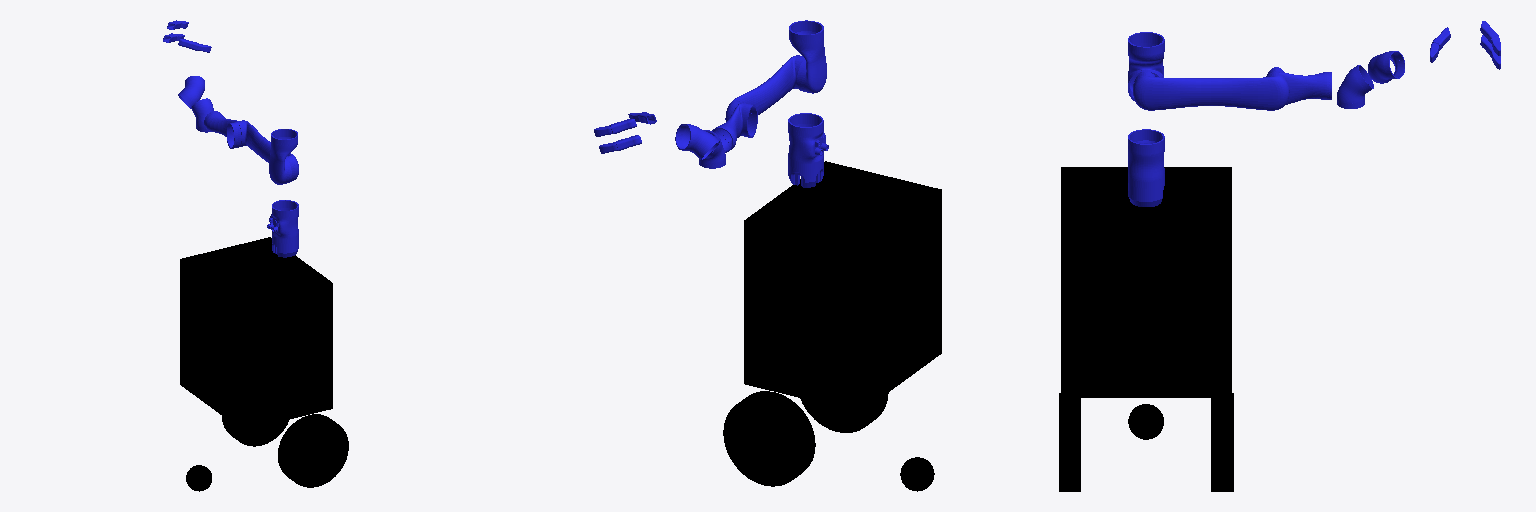
--- Facts derived from the render (not from the file) ---
Views: 3 orthographic renders of the robot side by side, from view 1: azimuth 30°, elevation 25°; view 2: azimuth 150°, elevation 25°; view 3: azimuth 270°, elevation 25°.
Robot: sudo — 17 links, 16 joints (9 revolute, 2 continuous, 5 fixed); root link base_footprint; default pose: all joints at 0.
Links seen in each view (by area): view 1: bottom_body_box, right_wheel, mico_base_link, mico_shoulder_link, left_wheel, mico_upper_arm_link, mico_lower_arm_link, mico_wrist_link, chassis; view 2: bottom_body_box, left_wheel, mico_base_link, mico_shoulder_link, mico_upper_arm_link, right_wheel, mico_lower_arm_link, mico_wrist_link, chassis; view 3: bottom_body_box, mico_upper_arm_link, mico_base_link, left_wheel, right_wheel, mico_shoulder_link, mico_lower_arm_link, mico_lower_arm_roll_link, chassis, mico_wrist_link.
Boxes of the visible links, x1,y1,x2,y2 form: bottom_body_box: (180, 237, 332, 430); right_wheel: (278, 414, 348, 487); mico_base_link: (267, 200, 298, 257); mico_shoulder_link: (269, 129, 297, 184); left_wheel: (222, 416, 288, 446); mico_upper_arm_link: (238, 120, 298, 181); mico_lower_arm_link: (204, 111, 241, 148); mico_wrist_link: (178, 76, 204, 108); chassis: (186, 465, 211, 491); bottom_body_box: (744, 161, 941, 412); left_wheel: (723, 391, 815, 486); mico_base_link: (788, 113, 828, 187); mico_shoulder_link: (789, 20, 826, 93); mico_upper_arm_link: (725, 55, 804, 121); right_wheel: (800, 393, 888, 432); mico_lower_arm_link: (712, 103, 757, 152); mico_wrist_link: (675, 124, 719, 160); chassis: (900, 457, 934, 491); bottom_body_box: (1061, 167, 1231, 397); mico_upper_arm_link: (1133, 72, 1289, 110); mico_base_link: (1128, 129, 1164, 206); left_wheel: (1211, 393, 1233, 491); right_wheel: (1059, 393, 1080, 491); mico_shoulder_link: (1128, 32, 1164, 100); mico_lower_arm_link: (1266, 67, 1331, 104); mico_lower_arm_roll_link: (1337, 65, 1373, 108); chassis: (1128, 404, 1163, 439); mico_wrist_link: (1368, 51, 1404, 83).
Bounding box of the posed robot: 0.457 × 0.9858 × 1.18 m (x, y, z).
9 mesh visuals loaded from 11 distinct referenced files (7 Collada DAE); not drawn: 4 (reference not matched to a file when rendering).

The robot description file, URDF, robot "sudo":
<?xml version="1.0" ?>
<!-- =================================================================================== -->
<!-- |    This document was autogenerated by xacro from model.urdf.xacro               | -->
<!-- |    EDITING THIS FILE BY HAND IS NOT RECOMMENDED                                 | -->
<!-- =================================================================================== -->

<robot name="sudo" xmlns:controller="http://playerstage.sourceforge.net/gazebo/xmlschema/#controller" xmlns:interface="http://playerstage.sourceforge.net/gazebo/xmlschema/#interface" xmlns:sensor="http://playerstage.sourceforge.net/gazebo/xmlschema/#sensor" xmlns:xacro="http://ros.org/wiki/xacro">
  <link name="base_footprint">
    <origin rpy="0 0 0" xyz="0 0 0.0"/>
  </link>
  
  <joint name="base_footprint_to_chassis" type="fixed">
    <origin rpy="0 0 0" xyz="0 0 0.16"/>
    <child link="chassis"/>
    <parent link="base_footprint"/>
  </joint>
  <!-- Pioneer 2 Chassis-->
  <link name="chassis">
     <inertial>
      <mass value="40"/>
      <!--<origin xyz="-0.025 0 -0.223"/>-->
      <origin xyz="-0.05 0 0"/>
      <inertia ixx="1" ixy="0" ixz="0" iyy="1" iyz="0" izz="1"/>
    </inertial>
    <origin rpy="0 0 0" xyz="0 0 0.16"/>
    <visual name="visual">
      <origin rpy="0 0 0" xyz="0 0 0.04"/>
      <geometry>
        <mesh filename="package://sudo_description/models/pioneer2dx/meshes/chassis.dae"/>
      </geometry>
    </visual>
    <visual name="castor_visual">
      <origin rpy="0 0 0" xyz="-0.200 0 -0.12"/>
      <geometry>
        <sphere radius="0.04"/>
      </geometry>
      <material name="black">
        <color rgba="0 0 0 1.0"/>
      </material>
    </visual>
    <collision>
      <origin rpy="0 0 0" xyz="0 0 0.04"/>
      <geometry>
        <mesh filename="package://sudo_description/models/pioneer2dx/meshes/chassis.dae"/>
      </geometry>
    </collision>
    <collision name="castor_collision">
      <origin rpy="0 0 0" xyz="-0.200 0 -0.12"/>
      <geometry>
        <sphere radius="0.02"/>
      </geometry>
    </collision>
  </link>
 
  <!-- Bottom cube of Sudo-->
  <link name="bottom_body_box">
    <visual name="visual">
    <origin xyz="0 0 0" rpy="0 0 0"/>
      <geometry>
        <box size="0.315 0.38 0.42"/>
      </geometry>
      <material name="black">
        <color rgba="0 0 0 1.0"/>
      </material>
    </visual>
    <collision>
    <origin xyz="0 0 0" rpy="0 0 0"/>
      <geometry>
        <box size="0.315 0.38 0.42"/>
      </geometry>
    </collision>
  </link>
 

  <!-- The link for sick laser. The used model is actually hokoyu-->
  <link name="laser_link">
    <origin rpy="0 0 3.14" xyz="-0.2 0 0.3"/>
    <visual name="visual">
    <origin xyz="0 0 0" rpy="0 0 0"/>
      <geometry>
        <mesh filename="package://sudo_description/models/hokuyo/meshes/hokuyo.dae"/>
      </geometry>
    </visual>
  </link>



  <link name="right_wheel">
    <origin rpy="1.5707 1.5707 0" xyz="0.1 -0.17 0.08"/>
    <inertial>
      <mass value="0.5"/>
      <origin xyz="0 0 0"/>
      <inertia ixx="0.012411765597" ixy="0" ixz="0" iyy="0.015218160428" iyz="0" izz="0.011763977943"/>
    </inertial>
    <visual name="visual">
    <origin xyz="0 0 0" rpy="0 0 0"/>
      <geometry>
        <cylinder length="0.05" radius="0.11"/>
      </geometry>
      <material name="black">
        <color rgba="0 0 0 1.0"/>
      </material>
    </visual>
    <collision>
    <origin xyz="0 0 0" rpy="0 0 0"/>
      <geometry>
        <cylinder length="0.05" radius="0.11"/>
      </geometry>
    </collision>
  </link>

  <gazebo reference="right_wheel">
    <!-- fnh -->
    <material>Gazebo/Black</material>
    <turnGravityOff>false</turnGravityOff>
    <selfCollide>true</selfCollide>
    <mu1>100.0</mu1>
    <mu2>100.0</mu2>
    <kp>1000000.0</kp>
    <kd>1.0</kd>
  </gazebo>    

  <link name="left_wheel">
    <origin rpy="1.5707 1.5707 0" xyz="0.1 0.17 0.08"/>
    <inertial>
      <mass value="0.5"/>
      <origin xyz="0 0 0"/>
      <inertia ixx="0.012411765597" ixy="0" ixz="0" iyy="0.015218160428" iyz="0" izz="0.011763977943"/>
    </inertial>
    <visual name="visual">
    <origin xyz="0 0 0" rpy="0 0 0"/>
      <geometry>
        <cylinder length="0.05" radius="0.11"/>
      </geometry>
      <material name="black">
        <color rgba="0 0 0 1.0"/>
      </material>
    </visual>
    <collision>
        <origin xyz="0 0 0" rpy="0 0 0"/>
      <geometry>
        <cylinder length="0.05" radius="0.11"/>
      </geometry>
    </collision>
  </link>

  <gazebo reference="left_wheel">
    <!-- fnh -->
    <material>Gazebo/Black</material>
    <turnGravityOff>false</turnGravityOff>
    <selfCollide>true</selfCollide>
    <mu1>100.0</mu1>
    <mu2>100.0</mu2>
    <kp>1000000.0</kp>
    <kd>1.0</kd>
  </gazebo>
  

  <joint name="left_wheel_hinge" type="continuous">
    <origin rpy="1.5707 0 0" xyz="0.1 0.17 -0.03"/>
    <child link="left_wheel"/>
    <parent link="chassis"/>
    <axis xyz="0 1 0"/>
    <limit effort="100" velocity="100"/>
    <joint_properties damping="0.0" friction="0.0"/>
  </joint>
  
    <transmission name="left_wheel_transmission">
    <type>transmission_interface/SimpleTransmission</type>
    <actuator name="left_wheel_motor">
      <hardwareInterface>EffortJointInterface</hardwareInterface>
      <mechanicalReduction>50</mechanicalReduction>
    </actuator>
    <joint name="left_wheel_hinge"/>
    <mechanicalReduction>50</mechanicalReduction>
    <motorTorqueConstant>1</motorTorqueConstant>
    <pulsesPerRevolution>10000</pulsesPerRevolution>
  </transmission>
  
  <joint name="right_wheel_hinge" type="continuous">
    <origin rpy="1.5707 0 0" xyz="0.1 -0.17 -0.03"/>
    <child link="right_wheel"/>
    <parent link="chassis"/>
    <axis xyz=" 0 1 0"/>
    <limit effort="100" velocity="100"/>
    <joint_properties damping="0.0" friction="0.0"/>
  </joint>
  <transmission name="right_wheel_transmission">
    <type>transmission_interface/SimpleTransmission</type>
    <actuator name="right_wheel_motor">
      <hardwareInterface>EffortJointInterface</hardwareInterface>
      <mechanicalReduction>50</mechanicalReduction>
    </actuator>
    <joint name="right_wheel_hinge"/>
    <mechanicalReduction>50</mechanicalReduction>
    <motorTorqueConstant>1</motorTorqueConstant>
    <pulsesPerRevolution>10000</pulsesPerRevolution>
  </transmission>
  <!-- Gazebo diff_drive plugin-->
  <gazebo> 
  <plugin filename="libgazebo_ros_diff_drive.so" name="diff_drive">
      <alwaysOn>true</alwaysOn>
      <leftJoint>left_wheel_hinge</leftJoint>
      <rightJoint>right_wheel_hinge</rightJoint>
      <wheelSeparation>0.32</wheelSeparation>
      <wheelDiameter>0.11</wheelDiameter>
      <torque>50</torque>
      <commandTopic>cmd_vel</commandTopic>
      <odometryTopic>odom</odometryTopic>
      <odometryFrame>odom</odometryFrame>
      <robotBaseFrame>base_footprint</robotBaseFrame>
  </plugin>
  </gazebo>

  
  <!-- Connection between chassis and bottom rectangular box-->
  <joint name="chassis_to_bottom" type="fixed">
    <origin rpy=" 0 0 0" xyz="0 0 0.315"/>
    <child link="bottom_body_box"/>
    <parent link="chassis"/>
  </joint>
  <!-- Connection between chassis and laser-->
  <joint name="laser_to_chassis" type="fixed">
    <origin rpy="0 0 3.14" xyz="-0.2 0 0.15 "/>
    <child link="laser_link"/>
    <parent link="chassis"/>
  </joint>

  <!-- Mico -->
  <material name="JacoGrey">
    <color rgba="0.2 0.2 0.9 1.0"/>
  </material>
  
  <!-- Mico Base-->
  <joint name="mico_base_joint" type="fixed">
    <origin rpy="0 0 1.57" xyz="0.1 0 0.31"/>
    <!-- fnh was: <origin xyz="0 0 0" rpy="0 0 0"/> -->
    <parent link="bottom_body_box"/>
    <child link="mico_base_link"/>
  </joint>
  <link name="mico_base_link">
    <inertial>
      <!-- fnh -->
      <origin xyz="0 0 0"/>
      <mass value="1.0"/>
      <inertia ixx="1" ixy="0" ixz="0" iyy="1" iyz="0" izz="1"/>
    </inertial>
    <visual>
      <material name="JacoGrey"/>
      <origin rpy="0 0 1.57079632679" xyz="0 0 0"/>
      <geometry>
        <mesh filename="package://jaco_description/meshes/jaco_base_joint.dae"/>
      </geometry>
    </visual>
    <collision>
      <origin rpy="0 0 1.57079632679" xyz="0 0 0"/>
      <geometry>
        <mesh filename="package://jaco_description/meshes/jaco_base_joint.dae"/>
      </geometry>
    </collision>
  </link>
  
  <gazebo reference="mico_base_link">
    <!-- fnh -->
    <material>Gazebo/Grey</material>
    <turnGravityOff>false</turnGravityOff>
    <selfCollide>true</selfCollide>
    <mu1>100.0</mu1>
    <mu2>100.0</mu2>
    <kp>1000000.0</kp>
    <kd>1.0</kd>
  </gazebo>
  
  <joint name="mico_shoulder_yaw_joint" type="revolute">
    <!--<origin xyz="0 0 ${D1}" rpy="0 0 0"/>-->
    <origin rpy="3.14159265359 0 3.14159265359" xyz="0 0 0.2142"/>
    <axis rpy="0 0 0" xyz="0 0 1"/>
    <parent link="mico_base_link"/>
    <child link="mico_shoulder_link"/>
    <limit effort="200" lower="-3.04159265359" upper="3.04159265359" velocity="0.837758016"/>
    <dynamics damping="50.5"/>
  </joint>
  <transmission name="mico_shoulder_yaw_joint_transmission">
    <type>transmission_interface/SimpleTransmission</type>
    <actuator name="mico_shoulder_yaw_joint_motor">
      <hardwareInterface>EffortJointInterface</hardwareInterface>
      <mechanicalReduction>50</mechanicalReduction>
    </actuator>
    <joint name="mico_shoulder_yaw_joint"/>
    <mechanicalReduction>50</mechanicalReduction>
    <motorTorqueConstant>1</motorTorqueConstant>
    <pulsesPerRevolution>10000</pulsesPerRevolution>
  </transmission>
  <link name="mico_shoulder_link">
    <inertial>
      <!-- fnh -->
      <origin xyz="0 0 0"/>
      <mass value="1.0"/>
      <inertia ixx="1" ixy="0" ixz="0" iyy="1" iyz="0" izz="1"/>
    </inertial>
    <visual>
      <material name="JacoGrey"/>
      <origin rpy="1.57079632679 -1.57079632679 0" xyz="0 0 0"/>
      <geometry>
        <mesh filename="package://jaco_description/meshes/jaco_shoulder_yaw_joint.dae"/>
      </geometry>
    </visual>
    <collision>
      <origin rpy="1.57079632679 -1.57079632679 0" xyz="0 0 0"/>
      <geometry>
        <mesh filename="package://jaco_description/meshes/jaco_shoulder_yaw_joint.dae"/>
      </geometry>
    </collision>
  </link>
  <gazebo reference="mico_shoulder_link">
    <!-- fnh -->
    <material>Gazebo/Grey</material>
    <turnGravityOff>false</turnGravityOff>
    <selfCollide>true</selfCollide>
    <mu1>100.0</mu1>
    <mu2>100.0</mu2>
    <kp>1000000.0</kp>
    <kd>1.0</kd>
  </gazebo>
  <joint name="mico_shoulder_pitch_joint" type="revolute">
    <origin rpy="-1.570796327 3.14159265359 0" xyz="0 -1e-06 0"/>
    <axis xyz="0 0 1"/>
    <parent link="mico_shoulder_link"/>
    <child link="mico_upper_arm_link"/>
    <limit effort="300" lower="-3.83972424" upper="0.69813168" velocity="0.837758016"/>
    <dynamics damping="50.5"/>
  </joint>
  <transmission name="mico_shoulder_pitch_joint_transmission">
    <type>transmission_interface/SimpleTransmission</type>
    <actuator name="mico_shoulder_pitch_joint_motor">
      <hardwareInterface>EffortJointInterface</hardwareInterface>
      <mechanicalReduction>50</mechanicalReduction>
    </actuator>
    <joint name="mico_shoulder_pitch_joint"/>
    <mechanicalReduction>50</mechanicalReduction>
    <motorTorqueConstant>1</motorTorqueConstant>
    <pulsesPerRevolution>10000</pulsesPerRevolution>
  </transmission>
  <link name="mico_upper_arm_link">
    <inertial>
      <!-- fnh -->
      <origin xyz="0 0 0"/>
      <mass value="1.0"/>
      <inertia ixx="1" ixy="0" ixz="0" iyy="1" iyz="0" izz="1"/>
    </inertial>
    <visual>
      <material name="JacoGrey"/>
      <origin rpy="0 0 -1.57079632679" xyz="0 0 0"/>
      <geometry>
        <mesh filename="package://jaco_description/meshes/jaco_shoulder_pitch_joint.dae" scale="1 0.707317073171 1"/>
      </geometry>
    </visual>
    <collision>
      <origin rpy="0 0 -1.57079632679" xyz="0 0 0"/>
      <geometry>
        <mesh filename="package://jaco_description/meshes/jaco_shoulder_pitch_joint.dae" scale="1 0.707317073171 1"/>
      </geometry>
    </collision>
  </link>
  <gazebo reference="mico_upper_arm_link">
    <!-- fnh -->
    <material>Gazebo/Grey</material>
    <turnGravityOff>false</turnGravityOff>
    <selfCollide>true</selfCollide>
    <mu1>100.0</mu1>
    <mu2>100.0</mu2>
    <kp>1000000.0</kp>
    <kd>1.0</kd>
  </gazebo>
  <joint name="mico_elbow_pitch_joint" type="revolute">
    <origin rpy="3.14159265359 0 1.570796327" xyz="0.29 0 0.012001"/>
    <axis xyz="0 0 1"/>
    <parent link="mico_upper_arm_link"/>
    <child link="mico_lower_arm_link"/>
    <limit effort="200" lower="-4.363323" upper="1.22173044" velocity="0.837758016"/>
    <dynamics damping="50.5"/>
  </joint>
  <transmission name="mico_elbow_pitch_joint_transmission">
    <type>transmission_interface/SimpleTransmission</type>
    <actuator name="mico_elbow_pitch_joint_motor">
      <hardwareInterface>EffortJointInterface</hardwareInterface>
      <mechanicalReduction>50</mechanicalReduction>
    </actuator>
    <joint name="mico_elbow_pitch_joint"/>
    <mechanicalReduction>50</mechanicalReduction>
    <motorTorqueConstant>1</motorTorqueConstant>
    <pulsesPerRevolution>10000</pulsesPerRevolution>
  </transmission>
  <link name="mico_lower_arm_link">
    <inertial>
      <!-- fnh -->
      <origin xyz="0 0 0"/>
      <mass value="0.8"/>
      <inertia ixx="1" ixy="0" ixz="0" iyy="1" iyz="0" izz="1"/>
    </inertial>
    <visual>
      <material name="JacoGrey"/>
      <origin rpy="3.14159265359 0 3.14159265359" xyz="0 0 -0.012"/>
      <geometry>
        <mesh filename="package://jaco_description/meshes/jaco_elbow_pitch_joint.dae" scale="1 0.601463414634 1"/>
      </geometry>
    </visual>
    <collision>
      <origin rpy="3.14159265359 0 3.14159265359" xyz="0 0 -0.012"/>
      <geometry>
        <mesh filename="package://jaco_description/meshes/jaco_elbow_pitch_joint.dae" scale="1 0.601463414634 1"/>
      </geometry>
    </collision>
  </link>
  <gazebo reference="mico_lower_arm_link">
    <!-- fnh -->
    <material>Gazebo/Grey</material>
    <turnGravityOff>false</turnGravityOff>
    <selfCollide>true</selfCollide>
    <mu1>100.0</mu1>
    <mu2>100.0</mu2>
    <kp>1000000.0</kp>
    <kd>1.0</kd>
  </gazebo>J_PI
  <joint name="mico_elbow_roll_joint" type="revolute">
    <origin rpy="3.14159265359 1.57079632679 0" xyz="0 0.165571 0 "/>
    <axis xyz="0 0 1"/>
    <parent link="mico_lower_arm_link"/>
    <child link="mico_lower_arm_roll_link"/>
    <limit effort="40" lower="-3.04159265359" upper="3.04159265359" velocity="1.04719752"/>
    <dynamics damping="50.5"/>
  </joint>
  <transmission name="mico_elbow_roll_joint_transmission">
    <type>transmission_interface/SimpleTransmission</type>
    <actuator name="mico_elbow_roll_joint_motor">
      <hardwareInterface>EffortJointInterface</hardwareInterface>
      <mechanicalReduction>50</mechanicalReduction>
    </actuator>
    <joint name="mico_elbow_roll_joint"/>
    <mechanicalReduction>50</mechanicalReduction>
    <motorTorqueConstant>1</motorTorqueConstant>
    <pulsesPerRevolution>10000</pulsesPerRevolution>
  </transmission>
  <link name="mico_lower_arm_roll_link">
    <inertial>
      <!-- fnh -->
      <origin xyz="0 0 0"/>
      <mass value="0.5"/>
      <inertia ixx="1" ixy="0" ixz="0" iyy="1" iyz="0" izz="1"/>
    </inertial>
    <visual>
      <material name="JacoGrey"/>
      <origin rpy="3.14159265359 0 1.57079632679" xyz="0 0 -0.04227"/>
      <geometry>
        <mesh filename="package://jaco_description/meshes/jaco_elbow_roll_joint.dae"/>
      </geometry>
    </visual>
    <collision>
      <origin rpy="3.14159265359 0 1.57079632679" xyz="0 0 -0.04227"/>
      <geometry>
        <mesh filename="package://jaco_description/meshes/jaco_elbow_roll_joint.dae"/>
      </geometry>
    </collision>
  </link>
  <gazebo reference="mico_lower_arm_roll_link">
    <!-- fnh -->
    <material>Gazebo/Grey</material>
    <turnGravityOff>false</turnGravityOff>
    <selfCollide>true</selfCollide>
    <mu1>100.0</mu1>
    <mu2>100.0</mu2>
    <kp>1000000.0</kp>
    <kd>1.0</kd>
  </gazebo>
  <joint name="mico_wrist_roll_joint" type="revolute">
    <origin rpy="0 -0.959931088597 0" xyz="0 -0.0692622919853 0.0484979789618"/>
    <axis xyz="0 0 1"/>
    <parent link="mico_lower_arm_roll_link"/>
    <child link="mico_wrist_link"/>
    <limit effort="40" lower="-3.04159265359" upper="3.04159265359" velocity="1.04719752"/>
    <dynamics damping="50.5"/>
  </joint>
  <transmission name="mico_wrist_roll_joint_transmission">
    <type>transmission_interface/SimpleTransmission</type>
    <actuator name="mico_wrist_roll_joint_motor">
      <hardwareInterface>EffortJointInterface</hardwareInterface>
      <mechanicalReduction>50</mechanicalReduction>
    </actuator>
    <joint name="mico_wrist_roll_joint"/>
    <mechanicalReduction>50</mechanicalReduction>
    <motorTorqueConstant>1</motorTorqueConstant>
    <pulsesPerRevolution>10000</pulsesPerRevolution>
  </transmission>
  <link name="mico_wrist_link">
    <inertial>
      <!-- fnh -->
      <origin xyz="0 0 0"/>
      <mass value="0.5"/>
      <inertia ixx="1" ixy="0" ixz="0" iyy="1" iyz="0" izz="1"/>
    </inertial>
    <visual>
      <material name="JacoGrey"/>
      <origin rpy="0 3.14159265359 -1.57079632679" xyz="0 0 -0.0422768230075"/>
      <geometry>
        <mesh filename="package://jaco_description/meshes/jaco_wrist_roll_joint.dae"/>
      </geometry>
    </visual>
    <collision>
      <origin rpy="0 3.14159265359 -1.57079632679" xyz="0 0 -0.0422768230075"/>
      <geometry>
        <mesh filename="package://jaco_description/meshes/jaco_wrist_roll_joint.dae"/>
      </geometry>
    </collision>
  </link>
  <gazebo reference="mico_wrist_link">
    <!-- fnh -->
    <material>Gazebo/Grey</material>
    <turnGravityOff>false</turnGravityOff>
    <selfCollide>true</selfCollide>
    <mu1>100.0</mu1>
    <mu2>100.0</mu2>
    <kp>1000000.0</kp>
    <kd>1.0</kd>
  </gazebo>
  <joint name="mico_hand_roll_joint" type="revolute">
    <origin rpy="-0.959931088597 0 1.57079632679" xyz="0 -0.186174274186 0.130360630206"/>
    <axis xyz="0 0 1"/>
    <parent link="mico_wrist_link"/>
    <child link="mico_hand_link"/>
    <limit effort="40" lower="-1.7" upper="4.5" velocity="1.04719752"/>
    <dynamics damping="50.5"/>
  </joint>
  <transmission name="mico_hand_roll_joint_transmission">
    <type>transmission_interface/SimpleTransmission</type>
    <actuator name="mico_hand_roll_joint_motor">
      <hardwareInterface>EffortJointInterface</hardwareInterface>
      <mechanicalReduction>50</mechanicalReduction>
    </actuator>
    <joint name="mico_hand_roll_joint"/>
    <mechanicalReduction>50</mechanicalReduction>
    <motorTorqueConstant>1</motorTorqueConstant>
    <pulsesPerRevolution>10000</pulsesPerRevolution>
  </transmission>
  <link name="mico_hand_link">
    <inertial>
      <!-- fnh -->
      <origin xyz="0 0 0"/>
      <mass value="0.6"/>
      <inertia ixx="1" ixy="0" ixz="0" iyy="1" iyz="0" izz="1"/>
    </inertial>
    <visual>
      <material name="JacoGrey"/>
      <origin rpy="0 0 -3.14159265359" xyz="0 0 -0.185"/>
      <geometry>
        <mesh filename="package://jaco_description/meshes/jaco_hand_roll_joint.dae"/>
      </geometry>
    </visual>
    <collision>
      <origin rpy="0 0 -3.14159265359" xyz="0 0 -0.185"/>
      <geometry>
        <!--<mesh filename="package://jaco_description/meshes/jaco_hand_roll_joint.stl" scale="0.9 0.9 0.7" />  fnh -->
        <mesh filename="package://jaco_description/meshes/jaco_hand_roll_joint.dae"/>
      </geometry>
    </collision>
  </link>
  <gazebo reference="mico_hand_link">
    <!-- fnh -->
    <material>Gazebo/Grey</material>
    <turnGravityOff>false</turnGravityOff>
    <selfCollide>true</selfCollide>
    <mu1>100.0</mu1>
    <mu2>100.0</mu2>
    <kp>1000000.0</kp>
    <kd>1.0</kd>
  </gazebo>
  <joint name="mico_finger_1_joint" type="revolute">
    <!-- <origin xyz="-0.036 0.021 ${-0.07}" rpy="0 ${-M_PI/7} 0"/> -->
    <origin rpy="0 -0.448798950513 0" xyz="-0.036 0.021 -0.07"/>
    <axis xyz="0 1 0"/>
    <parent link="mico_hand_link"/>
    <child link="mico_finger_1_link"/>
    <limit effort="10" lower="-0.1" upper="1.04719752" velocity="1.0"/>
    <dynamics damping="50.5"/>
  </joint>
  <transmission name="mico_finger_1_joint_transmission">
    <type>transmission_interfacmico_arm_v0e/SimpleTransmission</type>
    <actuator name="mico_finger_1_joint_motor">
      <hardwareInterface>EffortJointInterface</hardwareInterface>
      <mechanicalReduction>50</mechanicalReduction>
    </actuator>
    <joint name="mico_finger_1_joint"/>
    <mechanicalReduction>50</mechanicalReduction>
    <motorTorqueConstant>1</motorTorqueConstant>
    <pulsesPerRevolution>10000</pulsesPerRevolution>
  </transmission>
  <link name="mico_finger_1_link">
    <inertial>
      <!-- fnh -->
      <origin xyz="0 0 0"/>
      <mass value="0.1"/>
      <inertia ixx="1" ixy="0" ixz="0" iyy="1" iyz="0" izz="1"/>
    </inertial>
    <visual>
      <material name="JacoGrey"/>
      <origin rpy="0 0 0" xyz="0 0 0"/>
      <geometry>
        <mesh filename="package://jaco_description/meshes/finger_new.dae"/>
      </geometry>
    </visual>
    <collision>
      <origin rpy="0 0 0" xyz="0 0 0"/>
      <geometry>
        <mesh filename="package://jaco_description/meshes/finger_new.dae"/>
      </geometry>
    </collision>
  </link>
  <gazebo reference="mico_finger_1_link">
    <!-- fnh -->
    <material>Gazebo/Grey</material>
    <turnGravityOff>false</turnGravityOff>
    <selfCollide>true</selfCollide>
    <mu1>100.0</mu1>
    <mu2>100.0</mu2>
    <kp>1000000.0</kp>
    <kd>1.0</kd>
  </gazebo>
  <joint name="mico_finger_2_joint" type="revolute">
    <origin rpy="0 -0.448798950513 -3.14159265359" xyz="0.036 -0 -0.07"/>
    <axis xyz="0 1 0"/>
    <parent link="mico_hand_link"/>
    <child link="mico_finger_2_link"/>
    <limit effort="10" lower="-0.1" upper="1.04719752" velocity="1.0"/>
    <dynamics damping="50.5"/>
  </joint>
  <transmission name="mico_finger_2_joint_transmission">
    <type>transmission_interface/SimpleTransmission</type>
    <actuator name="mico_finger_2_joint_motor">
      <hardwareInterface>EffortJointInterface</hardwareInterface>
      <mechanicalReduction>50</mechanicalReduction>
    </actuator>
    <joint name="mico_finger_2_joint"/>
    <mechanicalReduction>50</mechanicalReduction>
    <motorTorqueConstant>1</motorTorqueConstant>
    <pulsesPerRevolution>10000</pulsesPerRevolution>
  </transmission>
  <link name="mico_finger_2_link">
    <inertial>
      <!-- fnh -->
      <origin xyz="0 0 0"/>
      <mass value="0.1"/>
      <inertia ixx="1" ixy="0" ixz="0" iyy="1" iyz="0" izz="1"/>
    </inertial>
    <visual>
      <material name="JacoGrey"/>
      <origin rpy="0 0 0" xyz="0 0 0"/>
      <geometry>
        <mesh filename="package://jaco_description/meshes/finger_new.dae"/>
      </geometry>
    </visual>
    <collision>
      <origin rpy="0 0 0" xyz="0 0 0"/>
      <geometry>
        <mesh filename="package://jaco_description/meshes/finger_new.dae"/>
      </geometry>
    </collision>
  </link>
  <gazebo reference="mico_finger_2_link">
    <!-- fnh -->
    <material>Gazebo/Grey</material>
    <turnGravityOff>false</turnGravityOff>
    <selfCollide>true</selfCollide>
    <mu1>100.0</mu1>
    <mu2>100.0</mu2>
    <kp>1000000.0</kp>
    <kd>1.0</kd>
  </gazebo>
  <joint name="mico_finger_3_joint" type="revolute">
    <origin rpy="0 -0.448798950513 0" xyz="-0.036 -0.021 -0.07"/>
    <axis xyz="0 1 0"/>
    <parent link="mico_hand_link"/>
    <child link="mico_finger_3_link"/>
    <limit effort="10" lower="-0.1" upper="1.04719752" velocity="1.0"/>
    <dynamics damping="50.5"/>
  </joint>
  <transmission name="mico_finger_3_joint_transmission">
    <type>transmission_interface/SimpleTransmission</type>
    <actuator name="mico_finger_3_joint_motor">
      <hardwareInterface>EffortJointInterface</hardwareInterface>
      <mechanicalReduction>50</mechanicalReduction>
    </actuator>
    <joint name="mico_finger_3_joint"/>
    <mechanicalReduction>50</mechanicalReduction>
    <motorTorqueConstant>1</motorTorqueConstant>
    <pulsesPerRevolution>10000</pulsesPerRevolution>
  </transmission>
  <link name="mico_finger_3_link">
    <inertial>
      <!-- fnh -->
      <origin xyz="0 0 0"/>
      <mass value="0.1"/>
      <inertia ixx="1" ixy="0" ixz="0" iyy="1" iyz="0" izz="1"/>
    </inertial>
    <visual>
      <material name="JacoGrey"/>
      <origin rpy="0 0 0" xyz="0 0 0"/>
      <geometry>
        <mesh filename="package://jaco_description/meshes/finger_new.dae"/>
      </geometry>
    </visual>
    <collision>
      <origin rpy="0 0 0" xyz="0 0 0"/>
      <geometry>
        <mesh filename="package://jaco_description/meshes/finger_new.dae"/>
      </geometry>
    </collision>
  </link>
  <gazebo reference="mico_finger_3_link">
    <!-- fnh -->
    <material>Gazebo/Grey</material>
    <turnGravityOff>false</turnGravityOff>
    <selfCollide>true</selfCollide>
    <mu1>100.0</mu1>
    <mu2>100.0</mu2>
    <kp>1000000.0</kp>
    <kd>1.0</kd>
  </gazebo>
  <gazebo>
   <plugin name="gazebo_ros_control" filename="libgazebo_ros_control.so">
     <robotNamespace>sudo</robotNamespace>
   </plugin>
  </gazebo>
  
  <!-- The link for top kinect-->
  <link name="camera_link">
    <visual name="visual">
      <geometry>
        <mesh filename="package://sudo_description/models/kinect/meshes/kinect.dae"/>
      </geometry>
    </visual>
  </link>
  
  <!-- Connection between top kinect and top body-->
  <joint name="top_kinect_to_chassis" type="fixed">
    <origin rpy="0 1.24 0" xyz="0.3 0 1.62"/>
    
    <child link="camera_link"/>
    <parent link="chassis"/>
    <!--axis xyz="0 1 0"/>
    <limit effort="100" lower="0" upper="0" velocity="0.1"/-->
  </joint>
  
  <!-- Gazebo Kinect plugin -->
  <gazebo reference="camera_link">
    <selfCollide>false</selfCollide>
    <static>true</static>
    <turnGravityOff>false</turnGravityOff>
    <sensor type="depth" name="openni_camera_camera">
      <!--pose xyz="0 0 0" rpy="-1.57 0 -2.81" /-->
      <pose>0 0 0 -1.58 0 -1.58</pose>
      <always_on>1</always_on>
      <visualize>true</visualize>
      <camera>
	<!--pose>0 0 0 -1.57 0 -2.81</pose-->
	<horizontal_fov>1.047</horizontal_fov>
	<image>
	  <width>640</width>
	  <height>480</height>
	  <format>R8G8B8</format>
	</image>
	<depth_camera>
	</depth_camera>
	<clip>
	  <near>0.1</near>
	  <far>100</far>
	</clip>
      </camera>
      <plugin name="camera_controller" filename="libgazebo_ros_openni_kinect.so">
	<alwaysOn>true</alwaysOn>
	<updateRate>10.0</updateRate>
	<cameraName>camera</cameraName>
	<frameName>camera_link</frameName>
	<imageTopicName>rgb/image_raw</imageTopicName>
	<depthImageTopicName>depth/image_raw</depthImageTopicName>
	<pointCloudTopicName>depth/points</pointCloudTopicName>
	<cameraInfoTopicName>rgb/camera_info</cameraInfoTopicName>
	<depthImageCameraInfoTopicName>depth/camera_info</depthImageCameraInfoTopicName>
	<pointCloudCutoff>0.4</pointCloudCutoff>
	<hackBaseline>0.07</hackBaseline>
	<distortionK1>0.0</distortionK1>
	<distortionK2>0.0</distortionK2>
	<distortionK3>0.0</distortionK3>
	<distortionT1>0.0</distortionT1>
	<distortionT2>0.0</distortionT2>
	<CxPrime>0.0</CxPrime>
	<Cx>0.0</Cx>
	<Cy>0.0</Cy>
	<focalLength>0.0</focalLength>
      </plugin>
    </sensor>
  </gazebo>

</robot>
